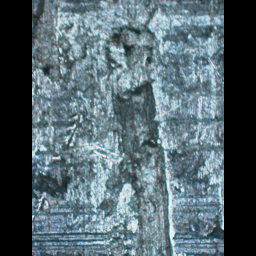d: (93, 20, 182, 256)
